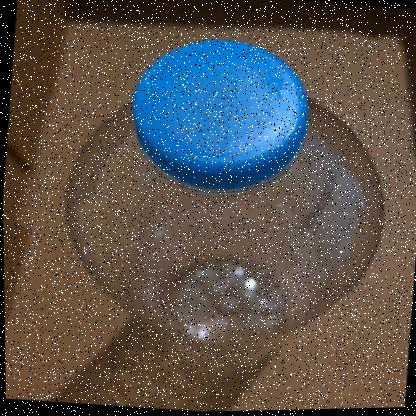bottle cap: (47, 10, 395, 345)
